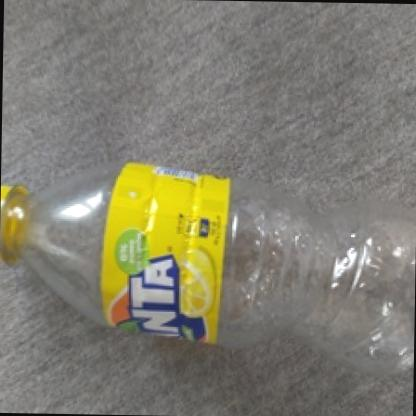plastic_bottles: (0, 152, 416, 378)
